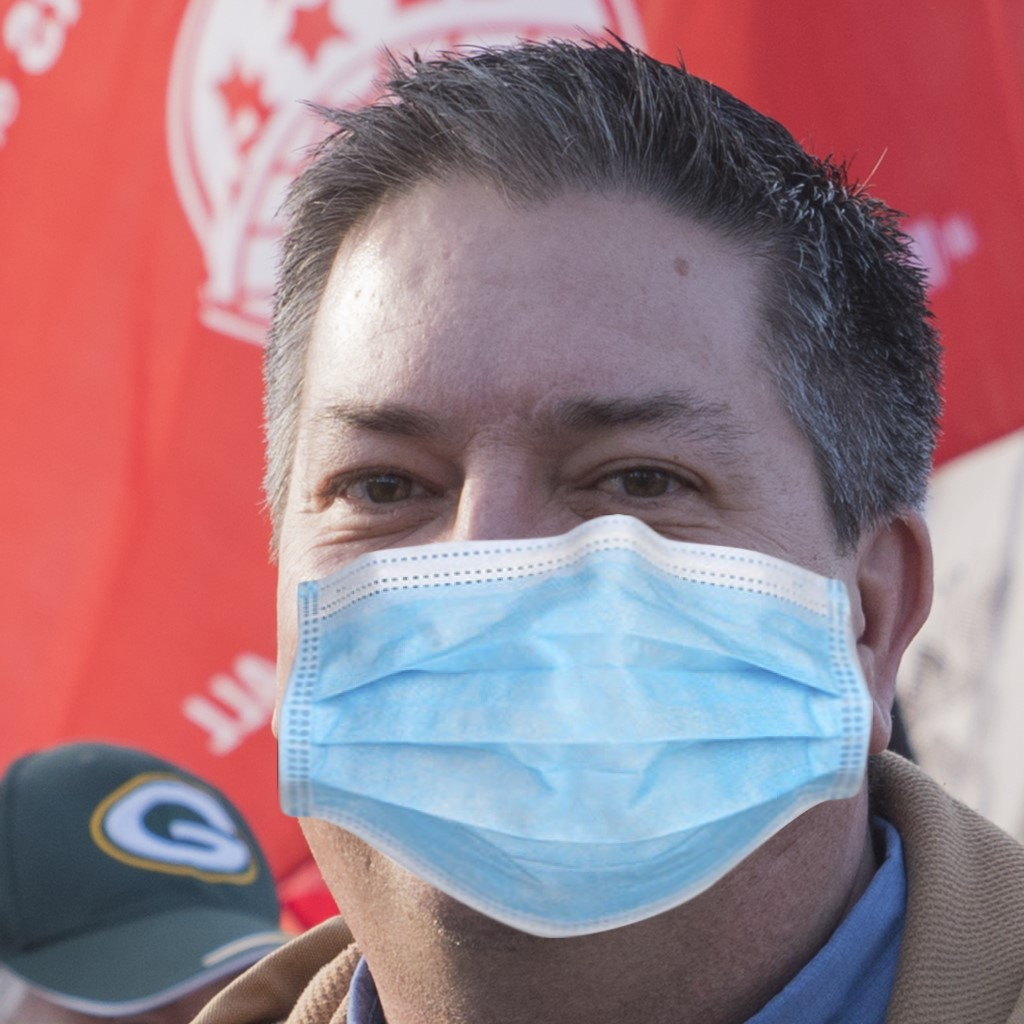con_mascara: (280, 148, 858, 968)
